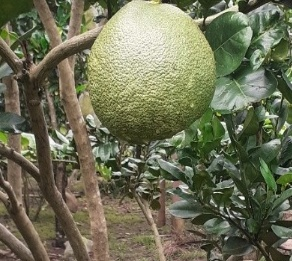Buoi: (81, 1, 216, 144)
